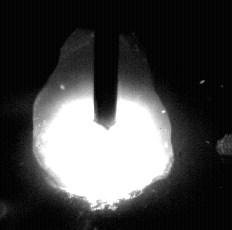arame: (94, 0, 119, 130)
poca: (32, 0, 172, 230)
